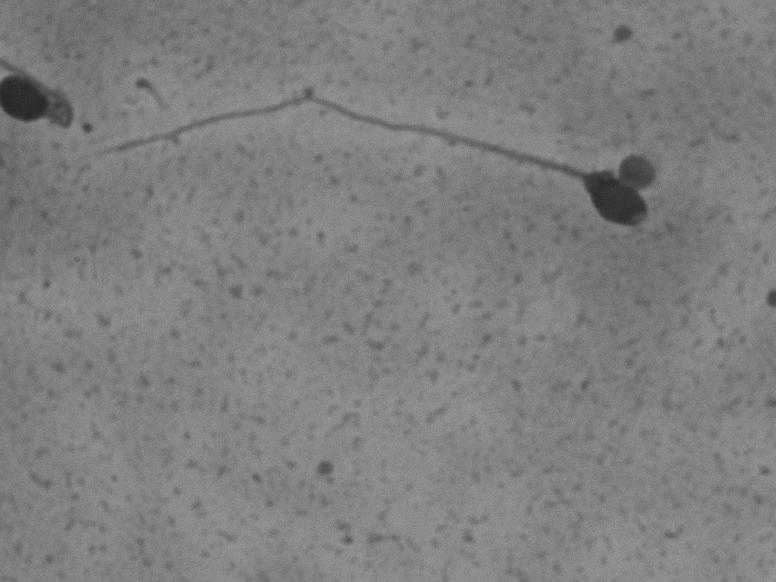Abnormal: (114, 72, 669, 287)
